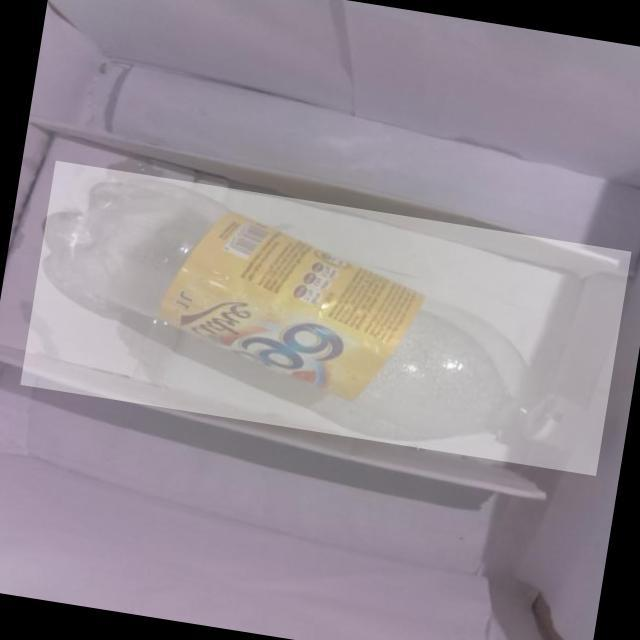good: (19, 159, 630, 475)
